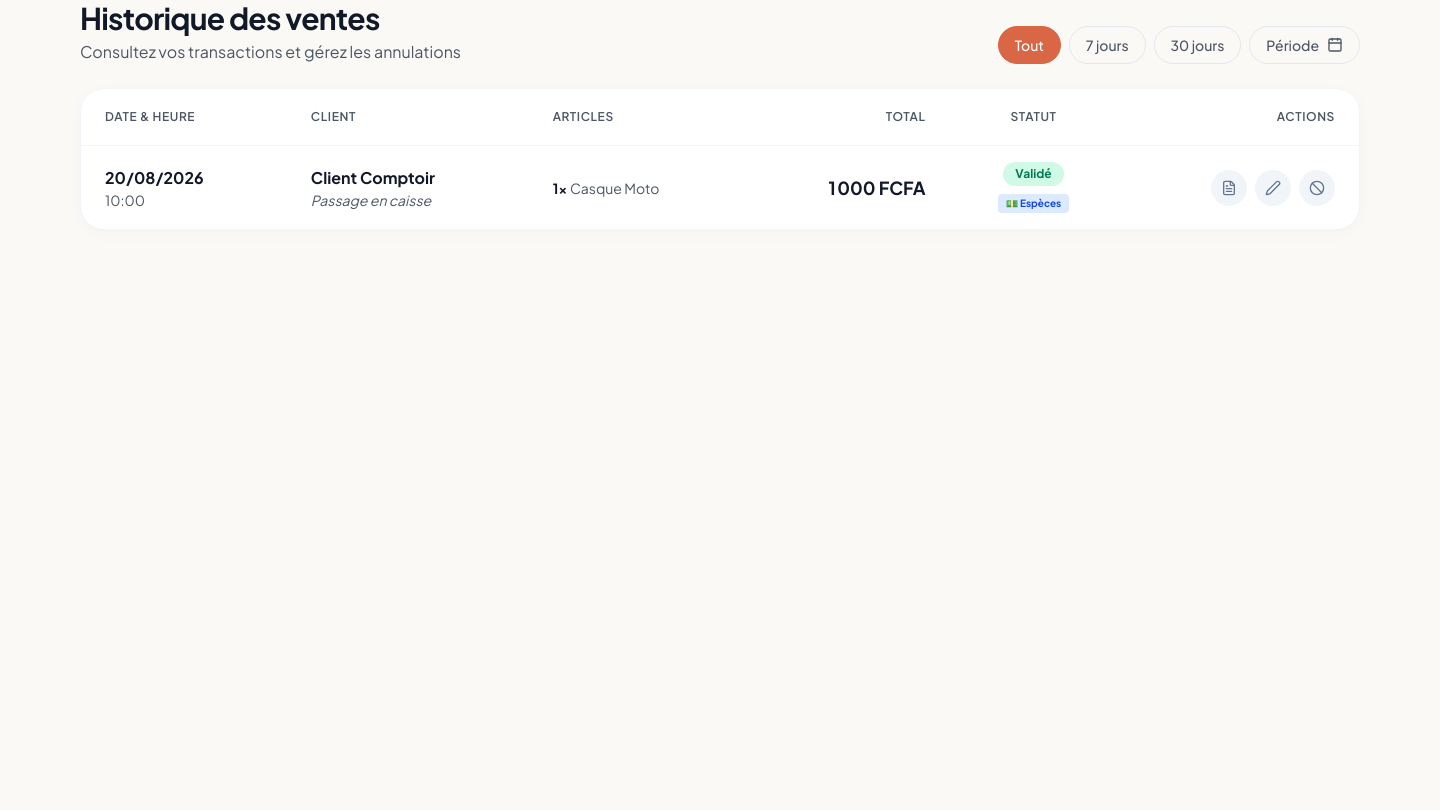
Scenario: HistoriqueVentes cancel/modify › sends the updated quantity through the atomic modify_sale RPC
Expected: the text "Casque Moto" is shown, left=570, top=178, right=659, bottom=196
Click the button titled "Modifier": (1273, 188) left=1255, top=170, right=1291, bottom=206
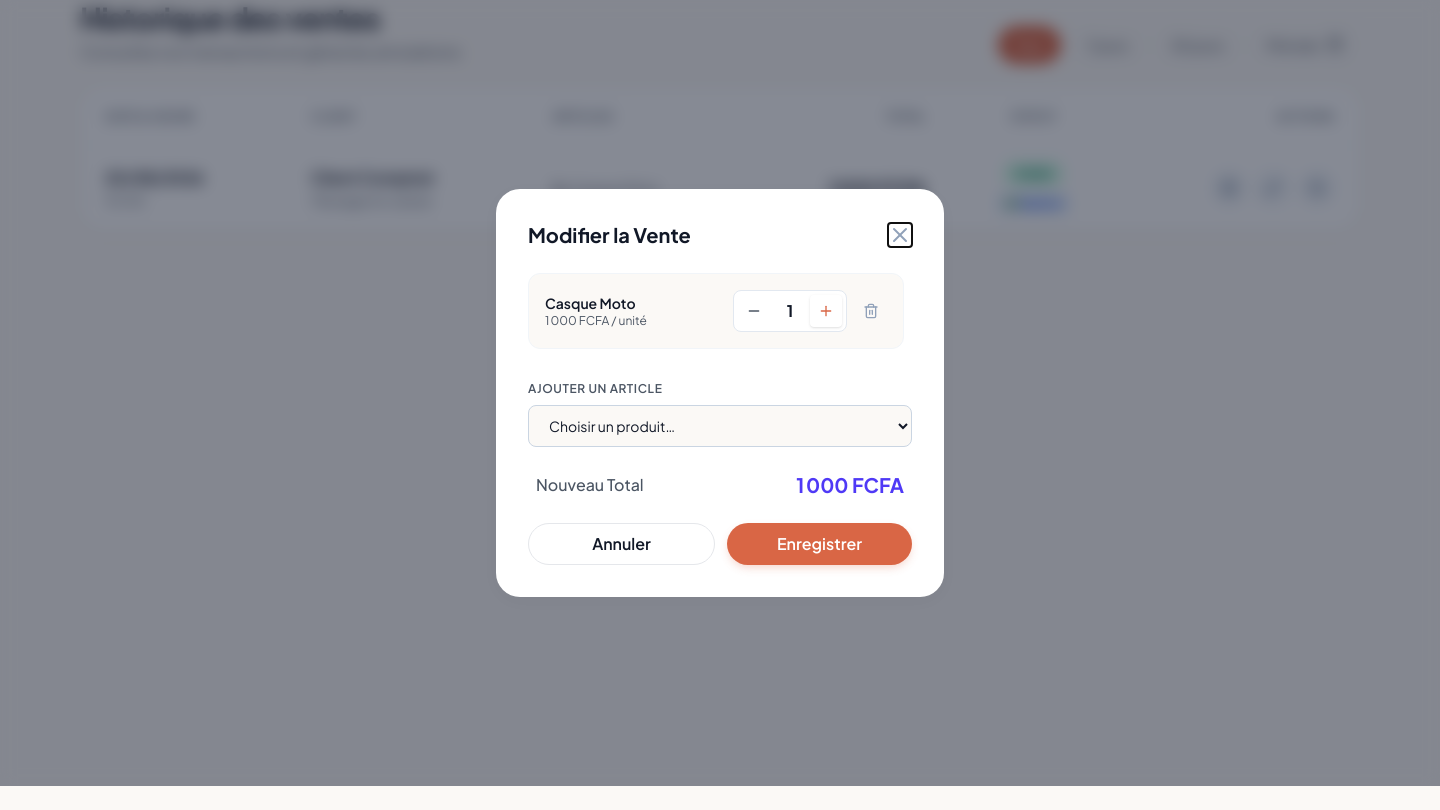
Click the button named "Augmenter la quantité": (826, 311) left=810, top=295, right=842, bottom=327
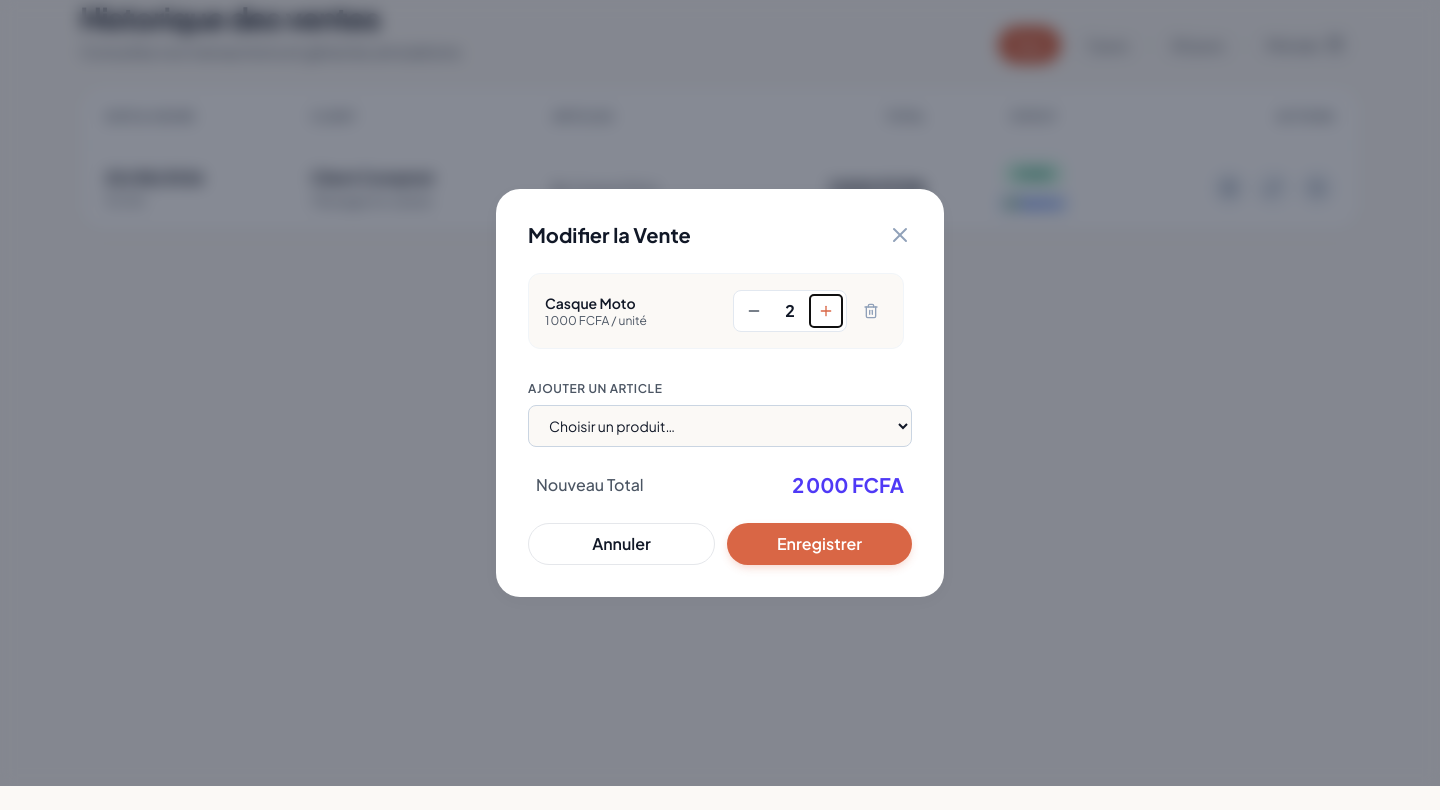
Click the button "Enregistrer": (820, 544) left=727, top=523, right=912, bottom=565
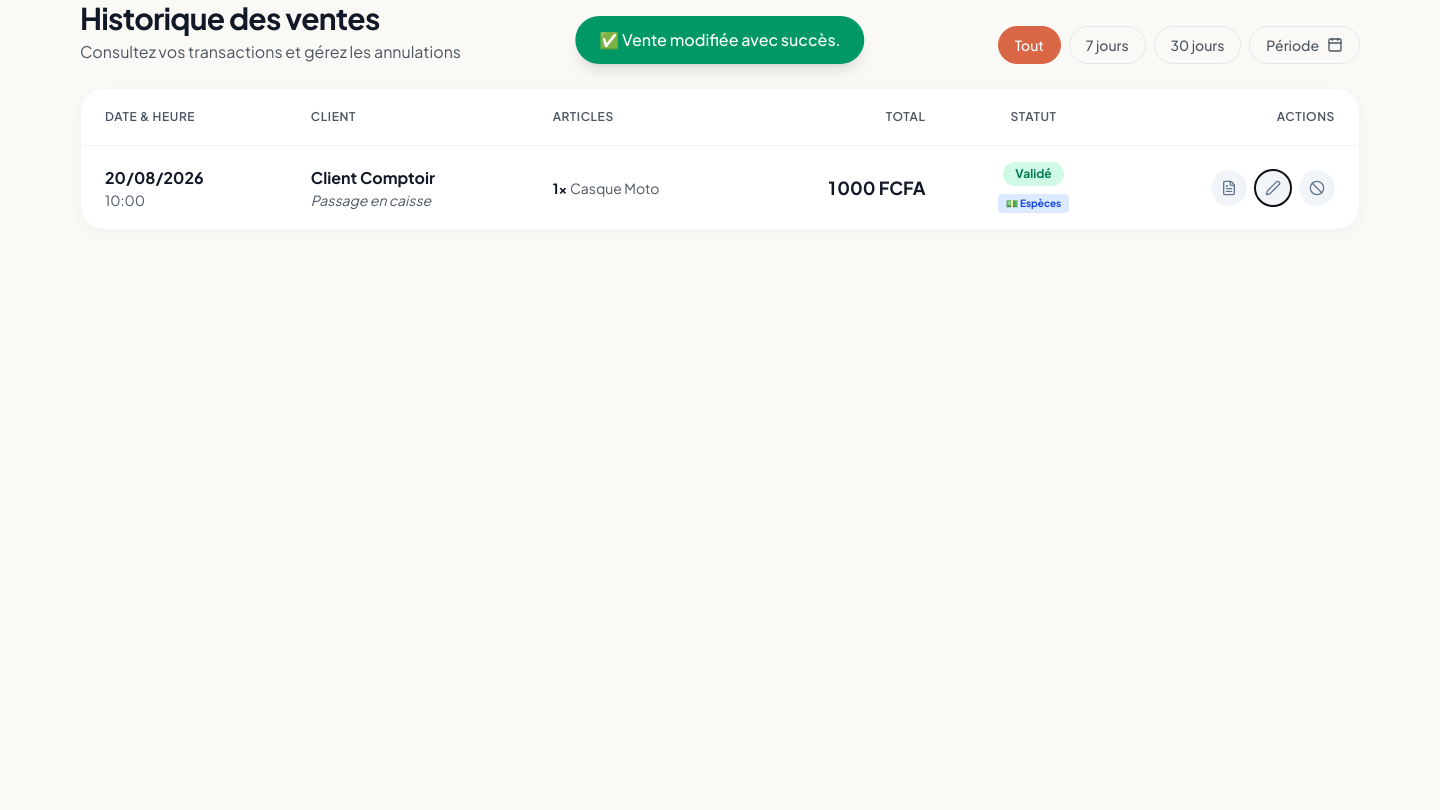
Now the text "✅ Vente modifiée avec succès." is shown, box left=575, top=16, right=865, bottom=64
